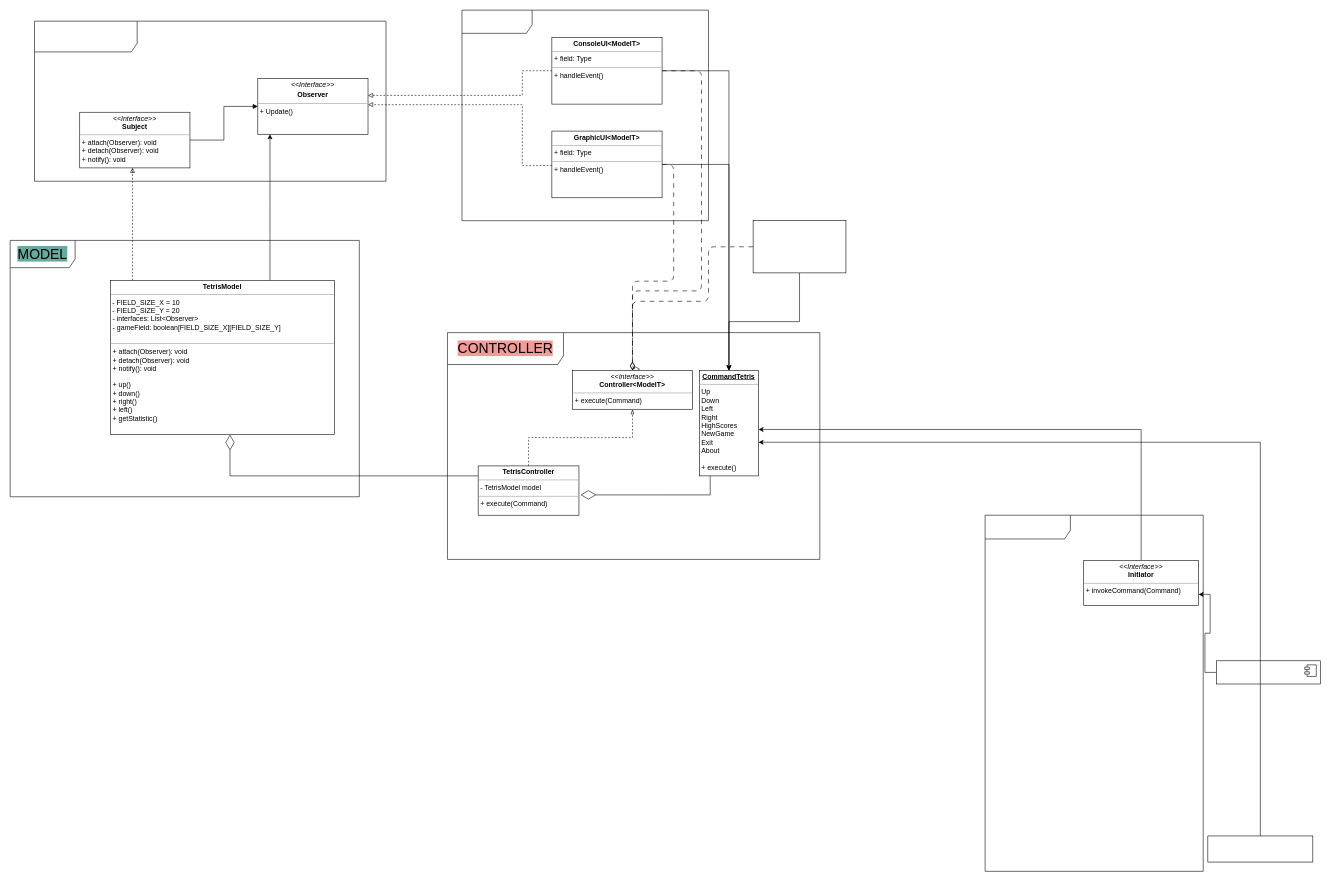
The diagram is 1331 pixels wide and 882 high, and some of its shapes have lost their labels. The shapes that lost their labels are listed below. From the top down, each one's centre as x and y in pixels, then its label:
[210,101]: Pattren "Observer/Subject"
[584,115]: VIEWER
[799,246]: KeyListener + field: Type + method(): Type
[1268,672]: Command.execute()
[1094,693]: Pattern "Command"
[1260,848]: TetrisController.execute(this)
